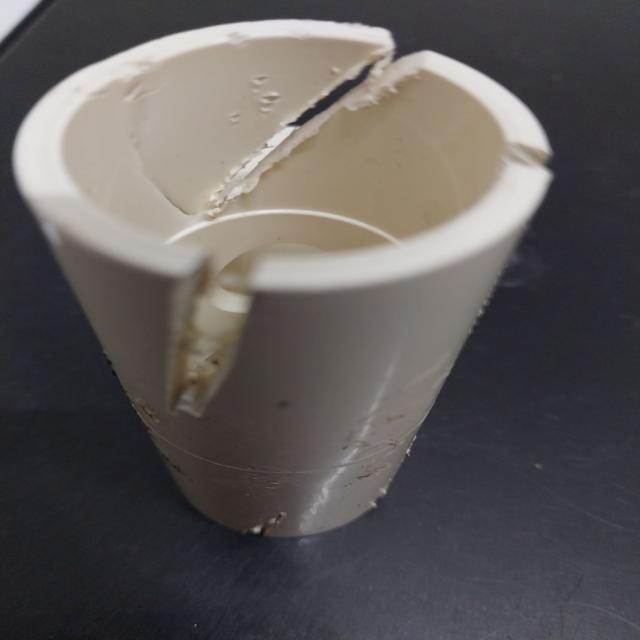Defective: (166, 22, 434, 256), (136, 227, 327, 446), (484, 106, 560, 195)
